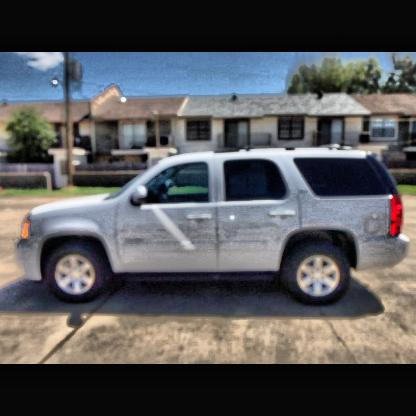GMC Yukon Hybrid SUV 2012: (16, 146, 411, 304)
